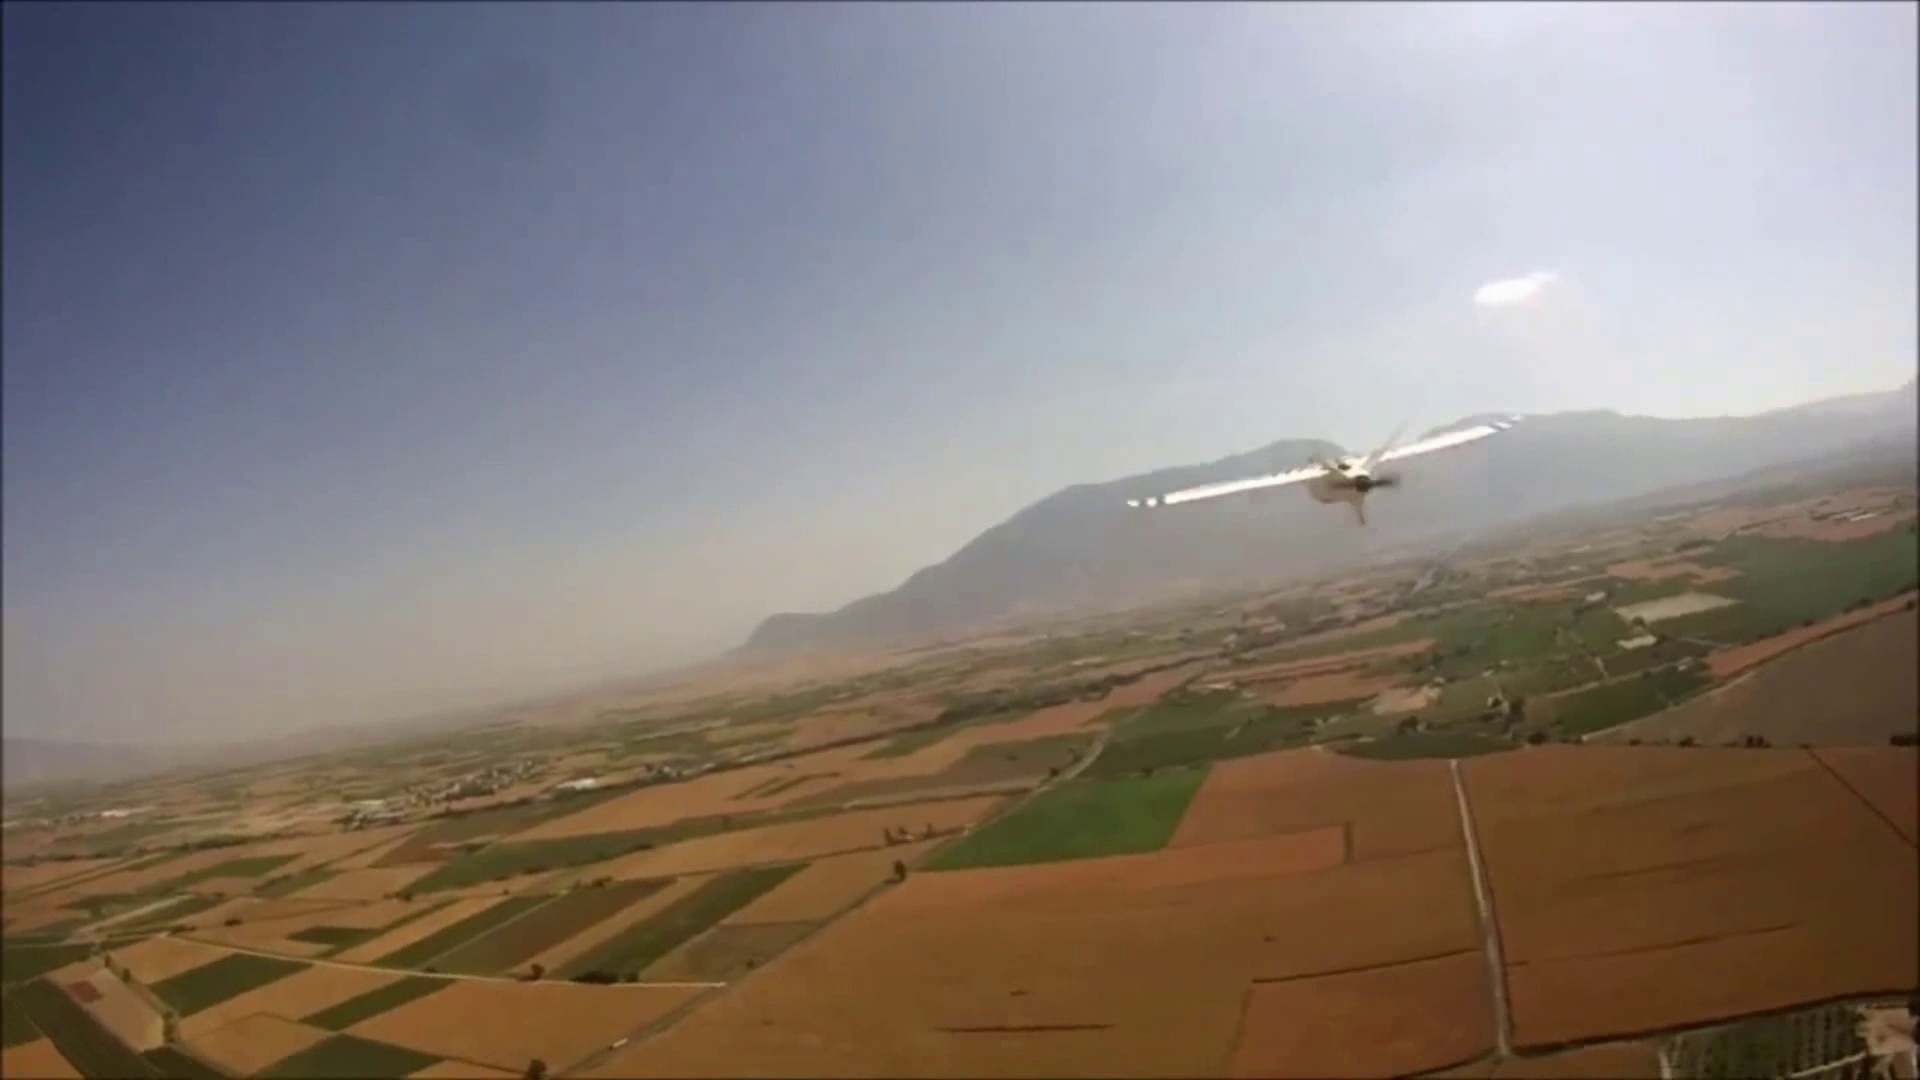airplane: (1127, 413, 1506, 526)
